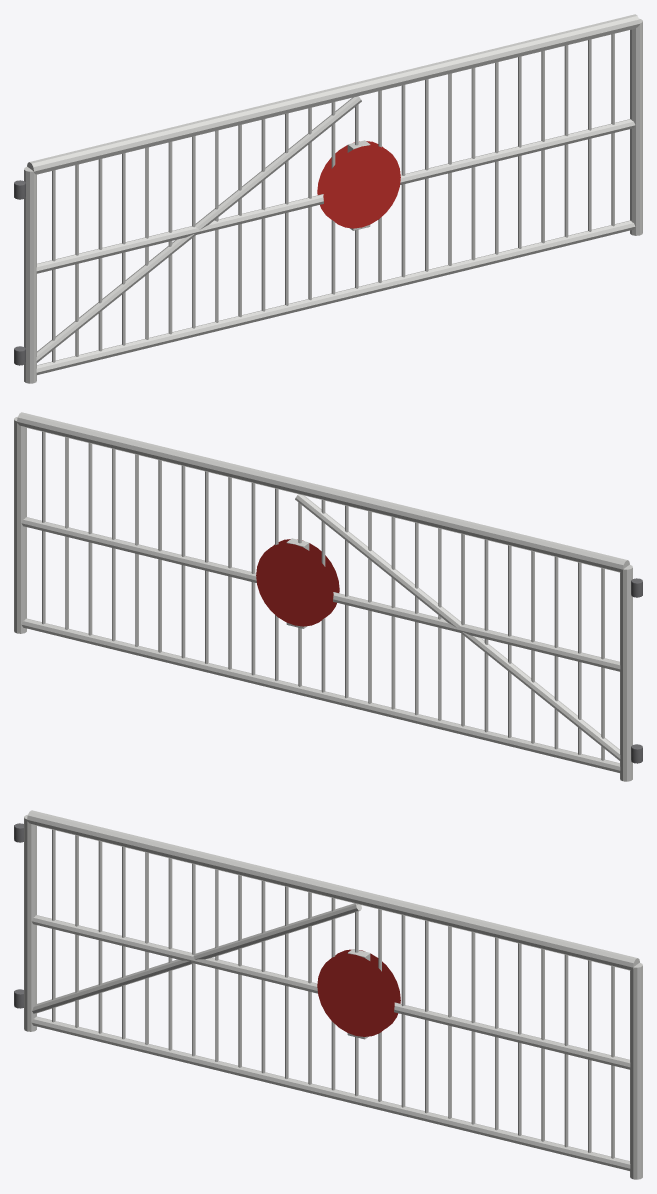
File: lx_gate_35.glb
3 renders of one model, top to bottom at view 1: azimuth 30°, elevation 25°; view 2: azimuth 150°, elevation 25°; view 3: azimuth 330°, elevation 25°, orthographic.
Visible parts, largest first — view 1: SM_lx_gate_35; view 2: SM_lx_gate_35; view 3: SM_lx_gate_35.
Boxes of the visible parts, bbox=[...] form: SM_lx_gate_35: bbox=[14, 14, 642, 383]; SM_lx_gate_35: bbox=[14, 412, 642, 781]; SM_lx_gate_35: bbox=[14, 810, 642, 1179].
Size of the model in its own units: 3.56 by 1.18 by 0.07.
